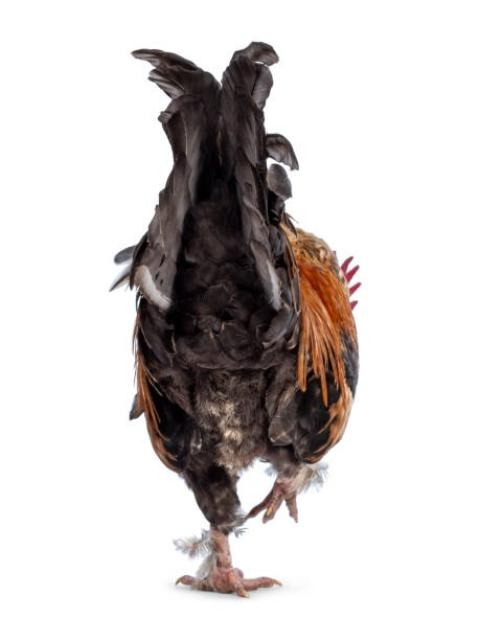Chicken: (108, 39, 361, 598)
